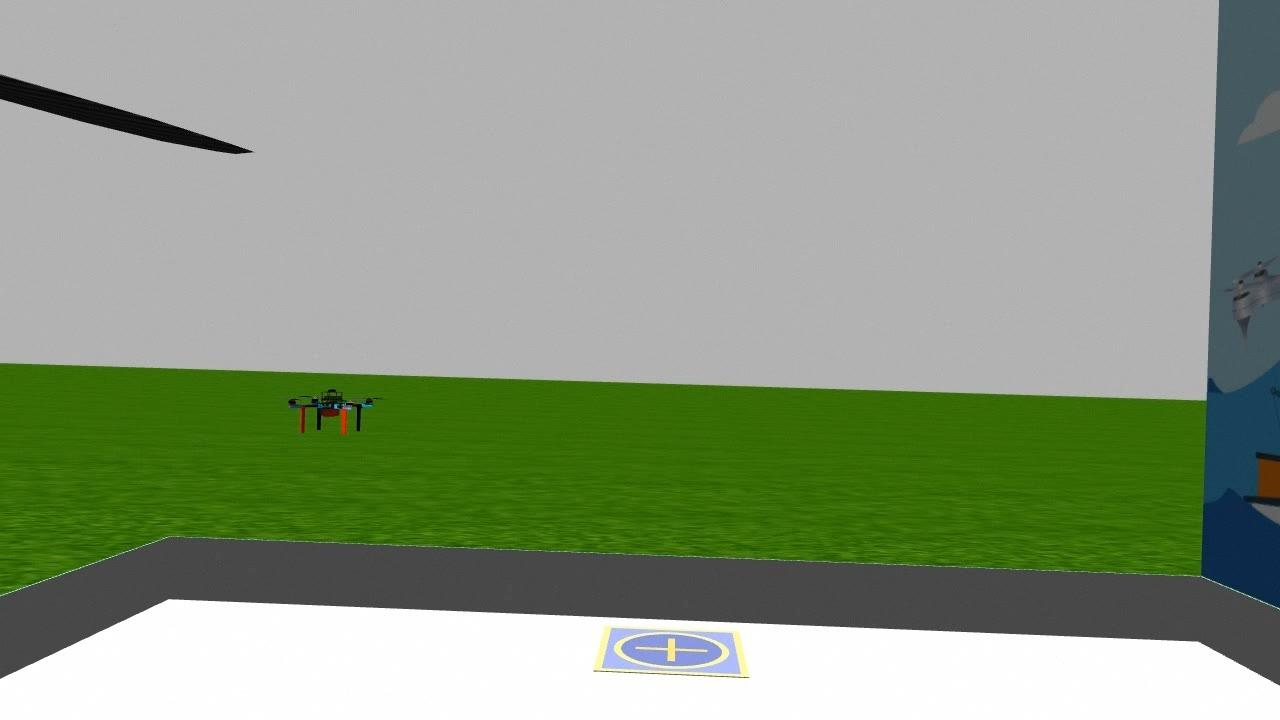UAV: (282, 376, 378, 458)
